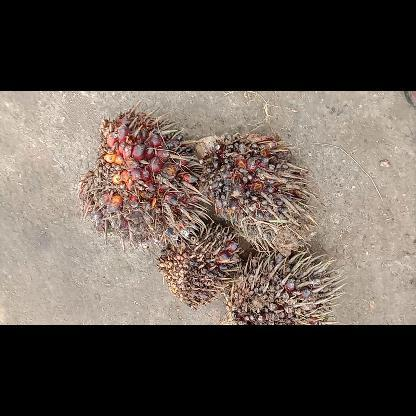TBS abnormal: (196, 133, 312, 245), (228, 250, 335, 324), (158, 225, 242, 311)
TBS masak: (78, 108, 200, 242)
